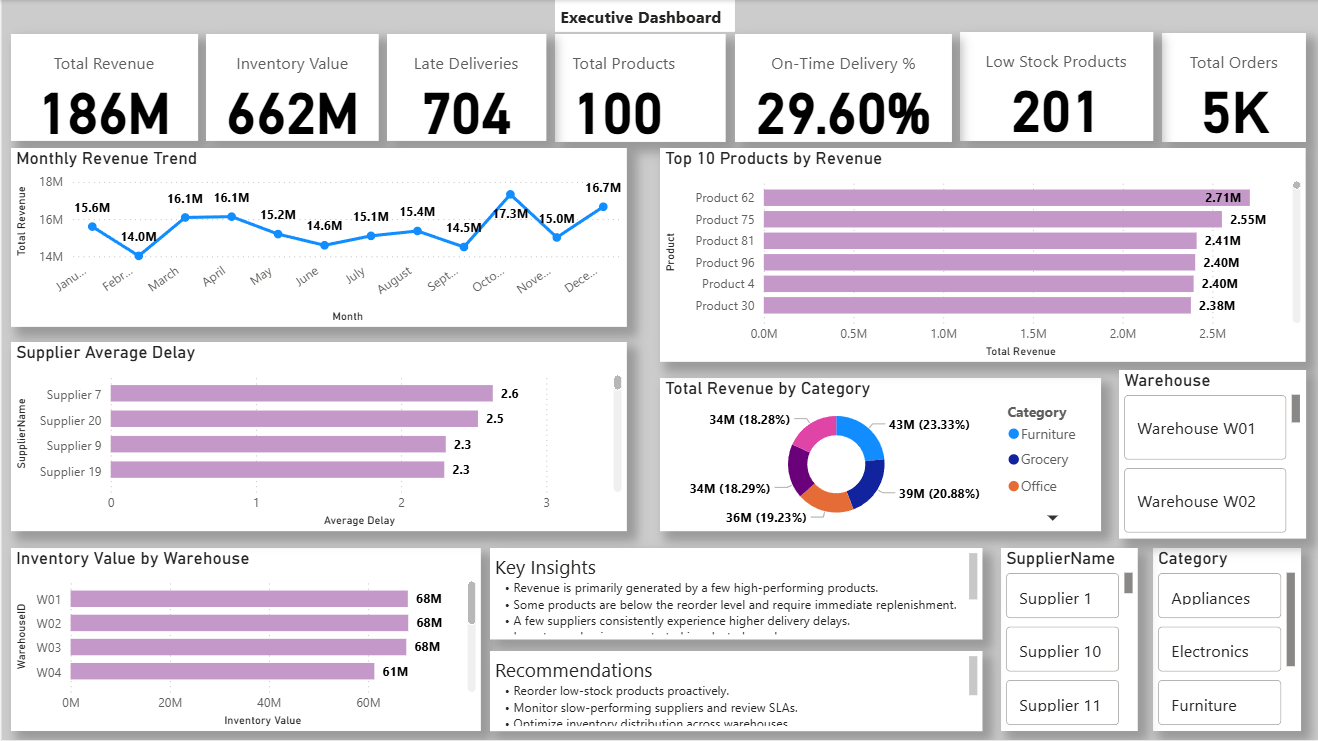

The dashboard page shown, as its layout file describes it:
{"tool":"powerbi","page":{"name":"Page 4","canvas":[1280,720],"ordinal":3},"visuals":[{"type":"cardVisual","fields":{"Data":["sales.Total Revenue"]},"box":[8.8,33.1,181.9,104.1],"z":0},{"type":"cardVisual","fields":{"Data":["orders.Total Orders"]},"box":[1128.3,32.1,140.1,106],"z":1000},{"type":"cardVisual","fields":{"Data":["products.Total Products"]},"box":[537.9,33.1,166.3,105],"z":2000},{"type":"cardVisual","fields":{"Data":["inventory.Inventory Value"]},"box":[198.4,33.1,168.3,104.1],"z":3000},{"type":"cardVisual","fields":{"Data":["inventory.Low Stock Products"]},"box":[931.8,31.1,187.7,106],"z":4000},{"type":"cardVisual","fields":{"Data":["deliveries.On-Time Delivery %"]},"box":[712.9,33.1,211.1,105],"z":5000},{"type":"cardVisual","fields":{"Data":["deliveries.Late Deliveries"]},"box":[374.5,33.1,154.7,104.1],"z":6000},{"type":"lineChart","title":"Monthly Revenue Trend","fields":{"Y":["sales.Total Revenue"],"Category":["DateTable.Month"]},"box":[8.8,144,599.1,174.1],"z":7000},{"type":"donutChart","fields":{"Category":["products.Category"],"Y":["sales.Total Revenue"]},"box":[640,367.7,428.9,148.8],"z":8000},{"type":"clusteredBarChart","title":"Inventory Value by Warehouse","fields":{"Y":["inventory.Inventory Value"],"Category":["warehouses.WarehouseID"]},"box":[8.8,533,457.1,178],"z":9000},{"type":"clusteredBarChart","title":"Supplier Average Delay","fields":{"Category":["suppliers.SupplierName"],"Y":["deliveries.Average Delay"]},"box":[8.8,332.6,599.1,183.8],"z":10000},{"type":"clusteredBarChart","title":"Top 10 Products by Revenue","fields":{"Category":["products.Product"],"Y":["sales.Total Revenue"]},"box":[640,144,628.3,208.1],"z":11000},{"type":"textbox","box":[537.9,0,175.1,31.1],"z":12000},{"type":"advancedSlicerVisual","fields":{"Values":["products.Category"]},"box":[1119.5,533,144,178],"z":13000},{"type":"advancedSlicerVisual","fields":{"Values":["warehouses.Warehouse"]},"box":[1086.4,359.9,181.9,164.4],"z":14000},{"type":"advancedSlicerVisual","fields":{"Values":["suppliers.SupplierName"]},"box":[971.7,533,133.3,178],"z":15000},{"type":"textbox","box":[474.7,533,478.5,89.5],"z":16000},{"type":"textbox","box":[474.7,633.2,478.5,77.8],"z":17000}]}

Visuals, with their boxes in screenshot pixels (x1, y1, x2, y2), scaled from the page's 1280x720 canvas onto the 1318x741 screenshot:
cardVisual - sales.Total Revenue: BBox(9, 34, 196, 141)
cardVisual - orders.Total Orders: BBox(1162, 33, 1306, 142)
cardVisual - products.Total Products: BBox(554, 34, 725, 142)
cardVisual - inventory.Inventory Value: BBox(204, 34, 378, 141)
cardVisual - inventory.Low Stock Products: BBox(959, 32, 1153, 141)
cardVisual - deliveries.On-Time Delivery %: BBox(734, 34, 951, 142)
cardVisual - deliveries.Late Deliveries: BBox(386, 34, 545, 141)
"Monthly Revenue Trend" lineChart: BBox(9, 148, 626, 327)
donutChart - products.Category x sales.Total Revenue: BBox(659, 378, 1101, 532)
"Inventory Value by Warehouse" clusteredBarChart: BBox(9, 549, 480, 732)
"Supplier Average Delay" clusteredBarChart: BBox(9, 342, 626, 531)
"Top 10 Products by Revenue" clusteredBarChart: BBox(659, 148, 1306, 362)
textbox: BBox(554, 0, 734, 32)
advancedSlicerVisual - products.Category: BBox(1153, 549, 1301, 732)
advancedSlicerVisual - warehouses.Warehouse: BBox(1119, 370, 1306, 540)
advancedSlicerVisual - suppliers.SupplierName: BBox(1001, 549, 1138, 732)
textbox: BBox(489, 549, 981, 641)
textbox: BBox(489, 652, 981, 732)
